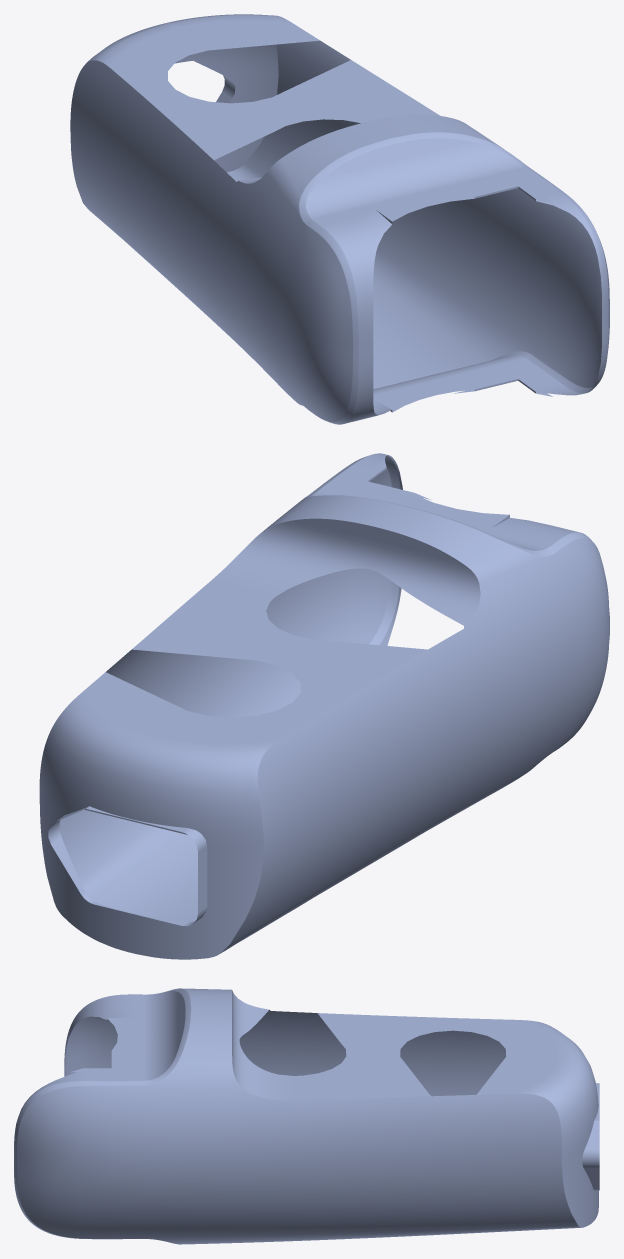
Rendered from 小原子左小腿.glb.
3 renders of one model, top to bottom at view 1: azimuth 30°, elevation 25°; view 2: azimuth 150°, elevation 25°; view 3: azimuth 270°, elevation 25°, orthographic. The views are drawn at different scales.
Parts seen in each view (by area): view 1: NONE.001; view 2: NONE.001; view 3: NONE.001.
Part boxes in pixels (<box>): NONE.001: <box>70,14,609,424</box>; NONE.001: <box>39,453,609,959</box>; NONE.001: <box>14,988,599,1244</box>.
Bounding box in the file's own units: 0.0926 × 0.0822 × 0.2074.
